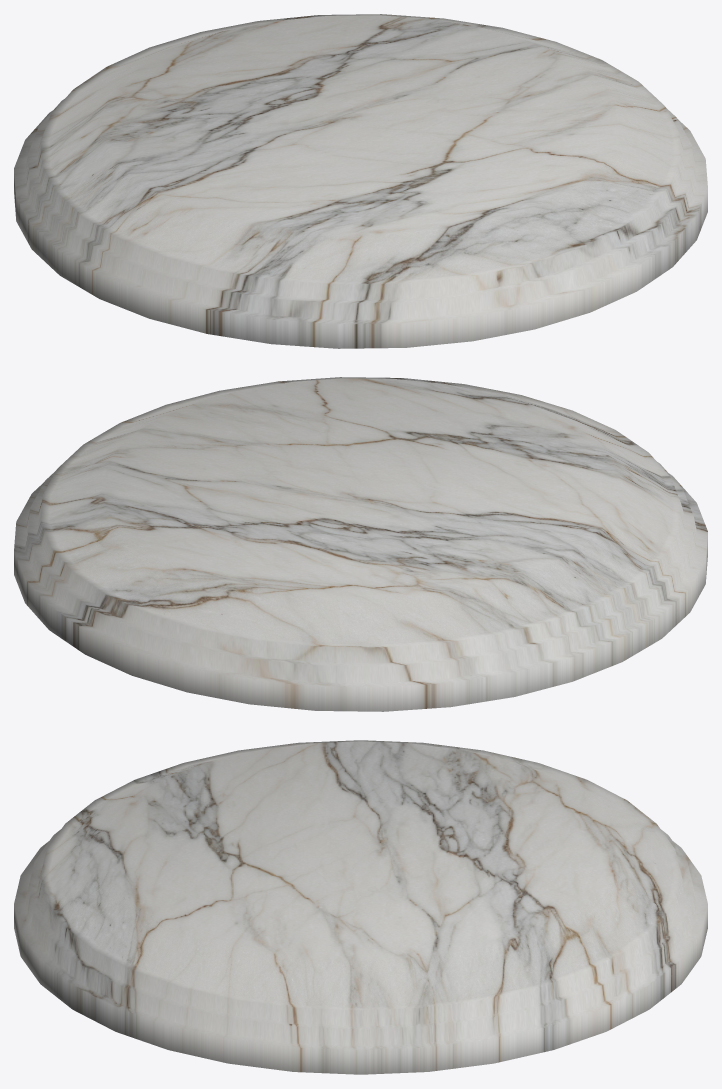
The model's file is Podium.fbx.
3 renders of one model, top to bottom at view 1: azimuth 30°, elevation 25°; view 2: azimuth 150°, elevation 25°; view 3: azimuth 270°, elevation 25°, orthographic.
Parts seen in each view (by area): view 1: Circle; view 2: Circle; view 3: Circle.
Boxes of the visible parts, x1=… form: Circle: x1=14, y1=14, x2=707, y2=348; Circle: x1=14, y1=377, x2=707, y2=711; Circle: x1=14, y1=740, x2=707, y2=1074.
Size of the model in its own units: 1300 by 159 by 1300.
